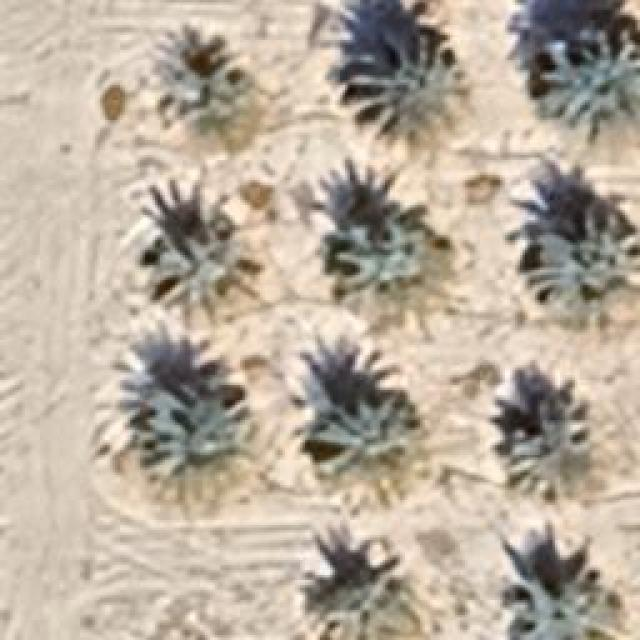PalmTree: (340, 22, 475, 150), (318, 192, 432, 310), (520, 200, 638, 310), (534, 24, 638, 148), (138, 390, 252, 502), (314, 397, 418, 505), (296, 545, 414, 640), (502, 402, 608, 500), (157, 230, 265, 312), (505, 574, 630, 638), (157, 38, 245, 120)
